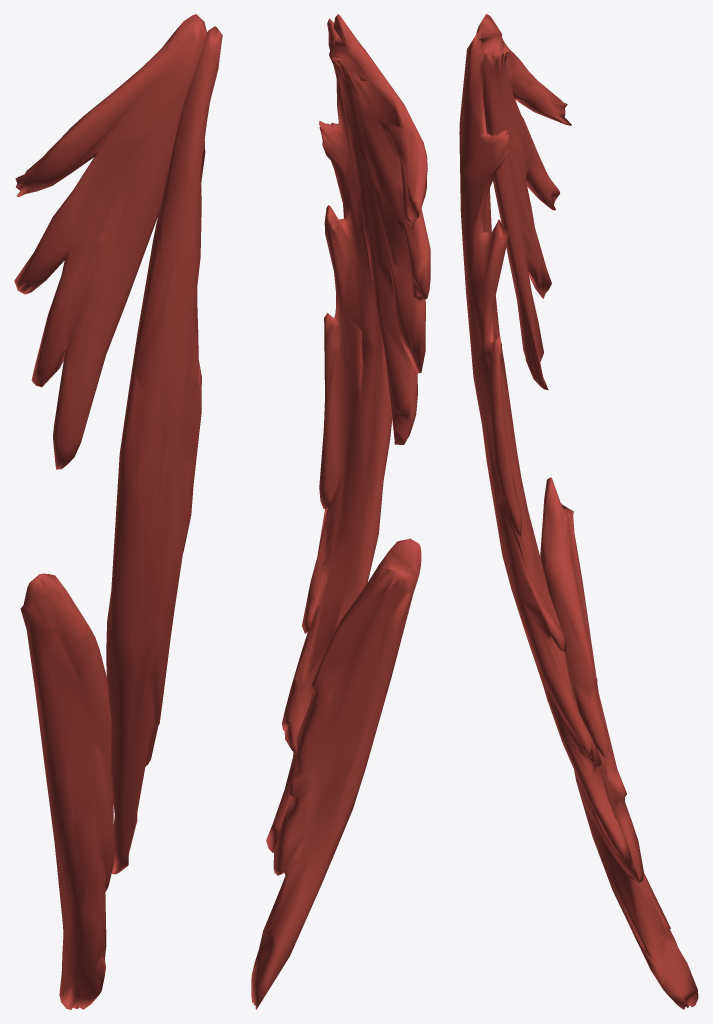
The model's file is musculos-longus-colli-muscle-r.glb.
3 renders of one model, left to right at view 1: azimuth 30°, elevation 25°; view 2: azimuth 150°, elevation 25°; view 3: azimuth 270°, elevation 25°, orthographic. The views are drawn at different scales.
Visible parts, largest first — view 1: Longus colli muscle.r; view 2: Longus colli muscle.r; view 3: Longus colli muscle.r.
Part boxes in pixels (x1,y1,x2,y2): Longus colli muscle.r: [14, 14, 222, 1009]; Longus colli muscle.r: [251, 14, 430, 1009]; Longus colli muscle.r: [459, 14, 698, 1009].
Bounding box in the file's own units: 0.0248 × 0.1574 × 0.0341.
